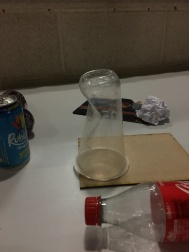bottle_red: (78, 180, 189, 242)
can_blue: (1, 93, 28, 170)
